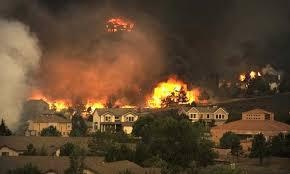fire: (142, 77, 200, 108), (32, 91, 70, 112)
